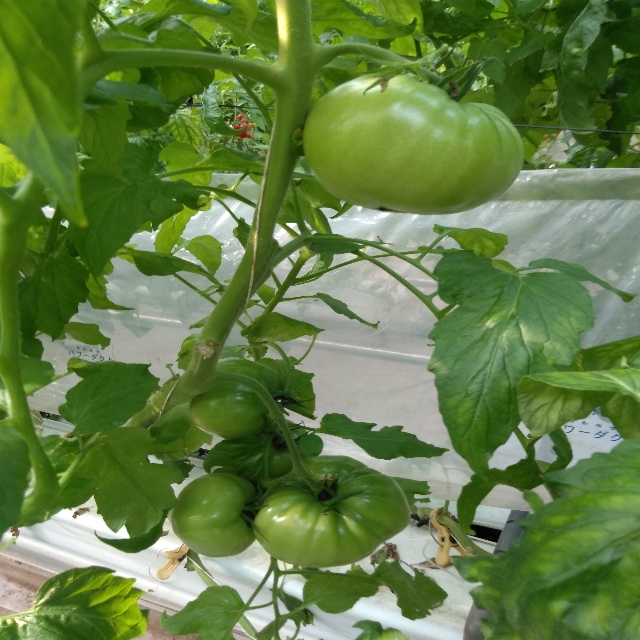b_green: (302, 72, 524, 215), (252, 455, 412, 568), (189, 359, 283, 441), (170, 473, 260, 557)
